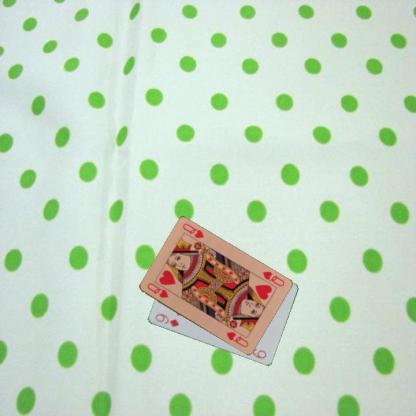9d: (153, 311, 180, 329)
Qh: (144, 280, 170, 300), (260, 268, 285, 288)
